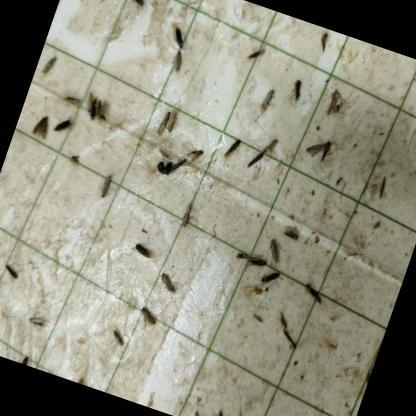prays_oleae: (296, 272, 331, 314), (304, 133, 338, 174), (24, 110, 58, 150), (154, 265, 184, 299), (262, 232, 290, 266), (324, 81, 350, 117), (133, 300, 162, 330), (372, 170, 394, 209), (0, 255, 25, 289), (104, 320, 132, 350), (256, 86, 280, 121), (160, 106, 184, 140), (219, 132, 243, 166), (258, 266, 285, 296), (51, 111, 75, 144), (284, 72, 308, 105), (244, 145, 269, 176), (182, 144, 206, 176), (92, 172, 115, 205), (176, 197, 198, 231), (244, 40, 270, 68), (90, 92, 112, 124), (23, 307, 49, 333), (38, 51, 62, 79), (280, 218, 304, 245), (132, 238, 160, 261), (167, 22, 191, 48), (314, 28, 334, 58), (242, 251, 268, 274), (79, 87, 99, 116), (60, 88, 86, 110), (121, 0, 151, 19), (154, 107, 172, 135), (261, 134, 281, 158), (86, 97, 102, 121), (169, 154, 188, 174), (359, 362, 374, 386), (170, 48, 186, 70), (66, 151, 84, 170)
